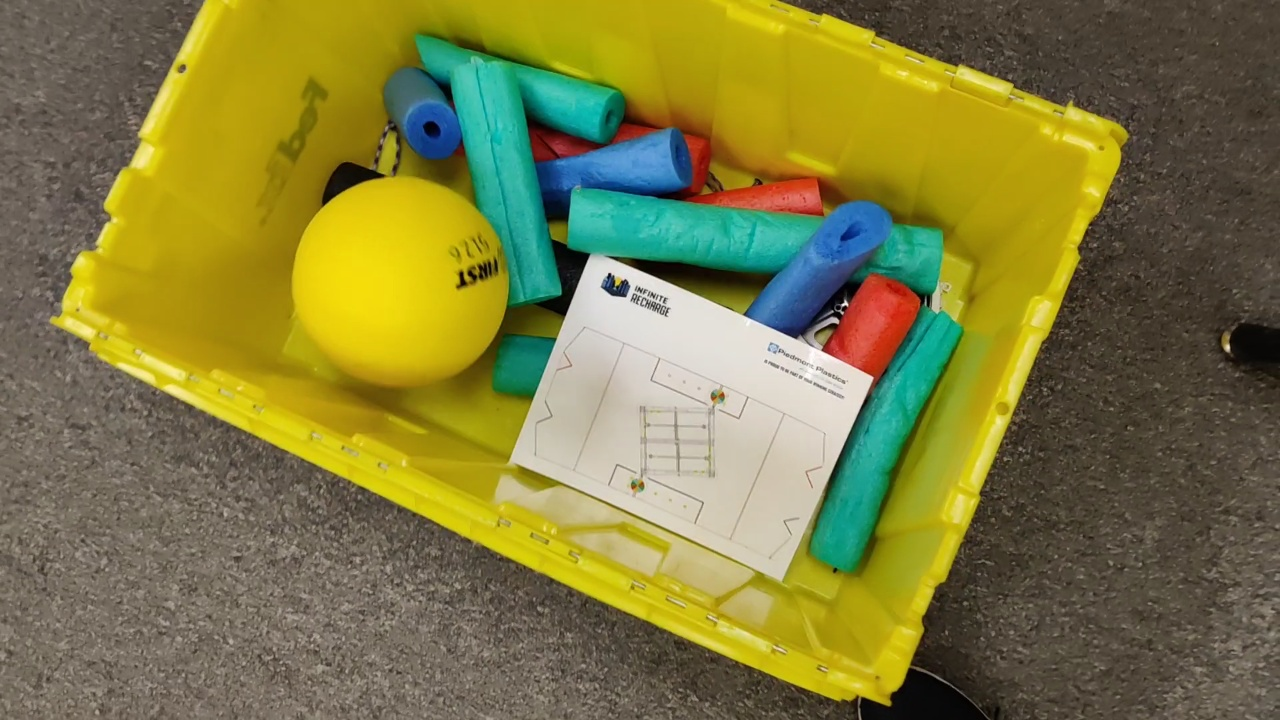Ball: (296, 178, 508, 385)
